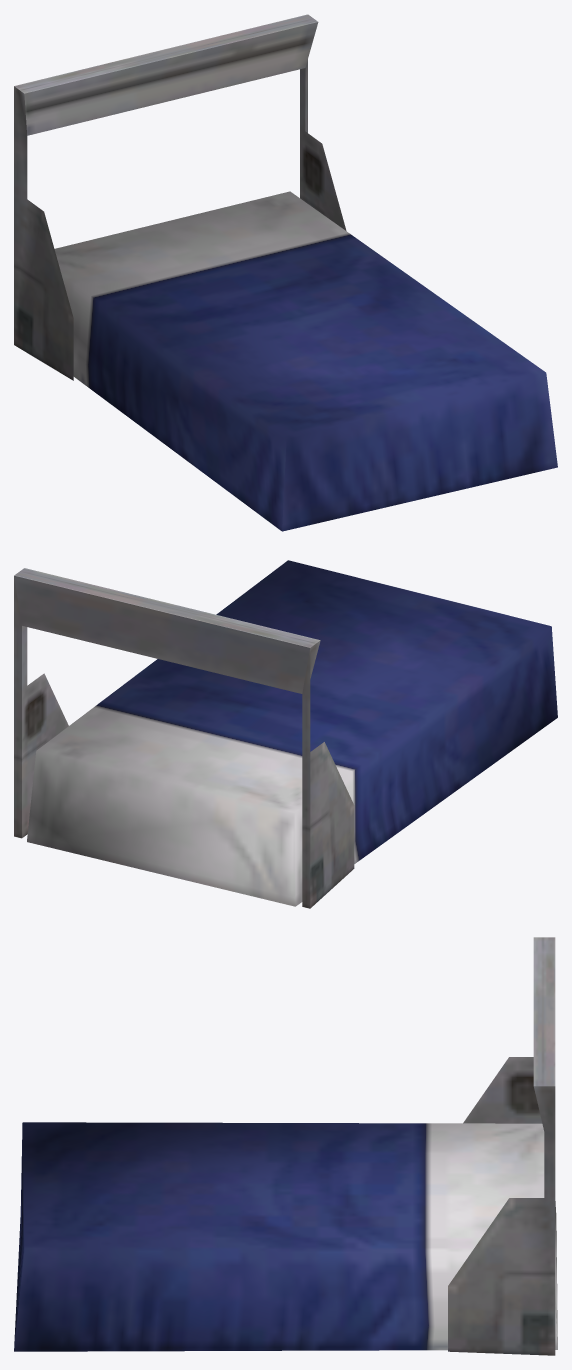
The model's file is frn_all_bed_sm_s2_l3.fbx.
3 renders of one model, top to bottom at view 1: azimuth 30°, elevation 25°; view 2: azimuth 150°, elevation 25°; view 3: azimuth 270°, elevation 25°, orthographic. The views are drawn at different scales.
Parts seen in each view (by area): view 1: mesh_node; view 2: mesh_node; view 3: mesh_node.
Boxes of the visible parts, x1,y1,x2,y2 form: mesh_node: [14, 14, 557, 531]; mesh_node: [14, 560, 557, 908]; mesh_node: [14, 937, 557, 1355].
Size of the model in its own units: 1.29 by 1.09 by 1.98.
1 material, 1 textured.
